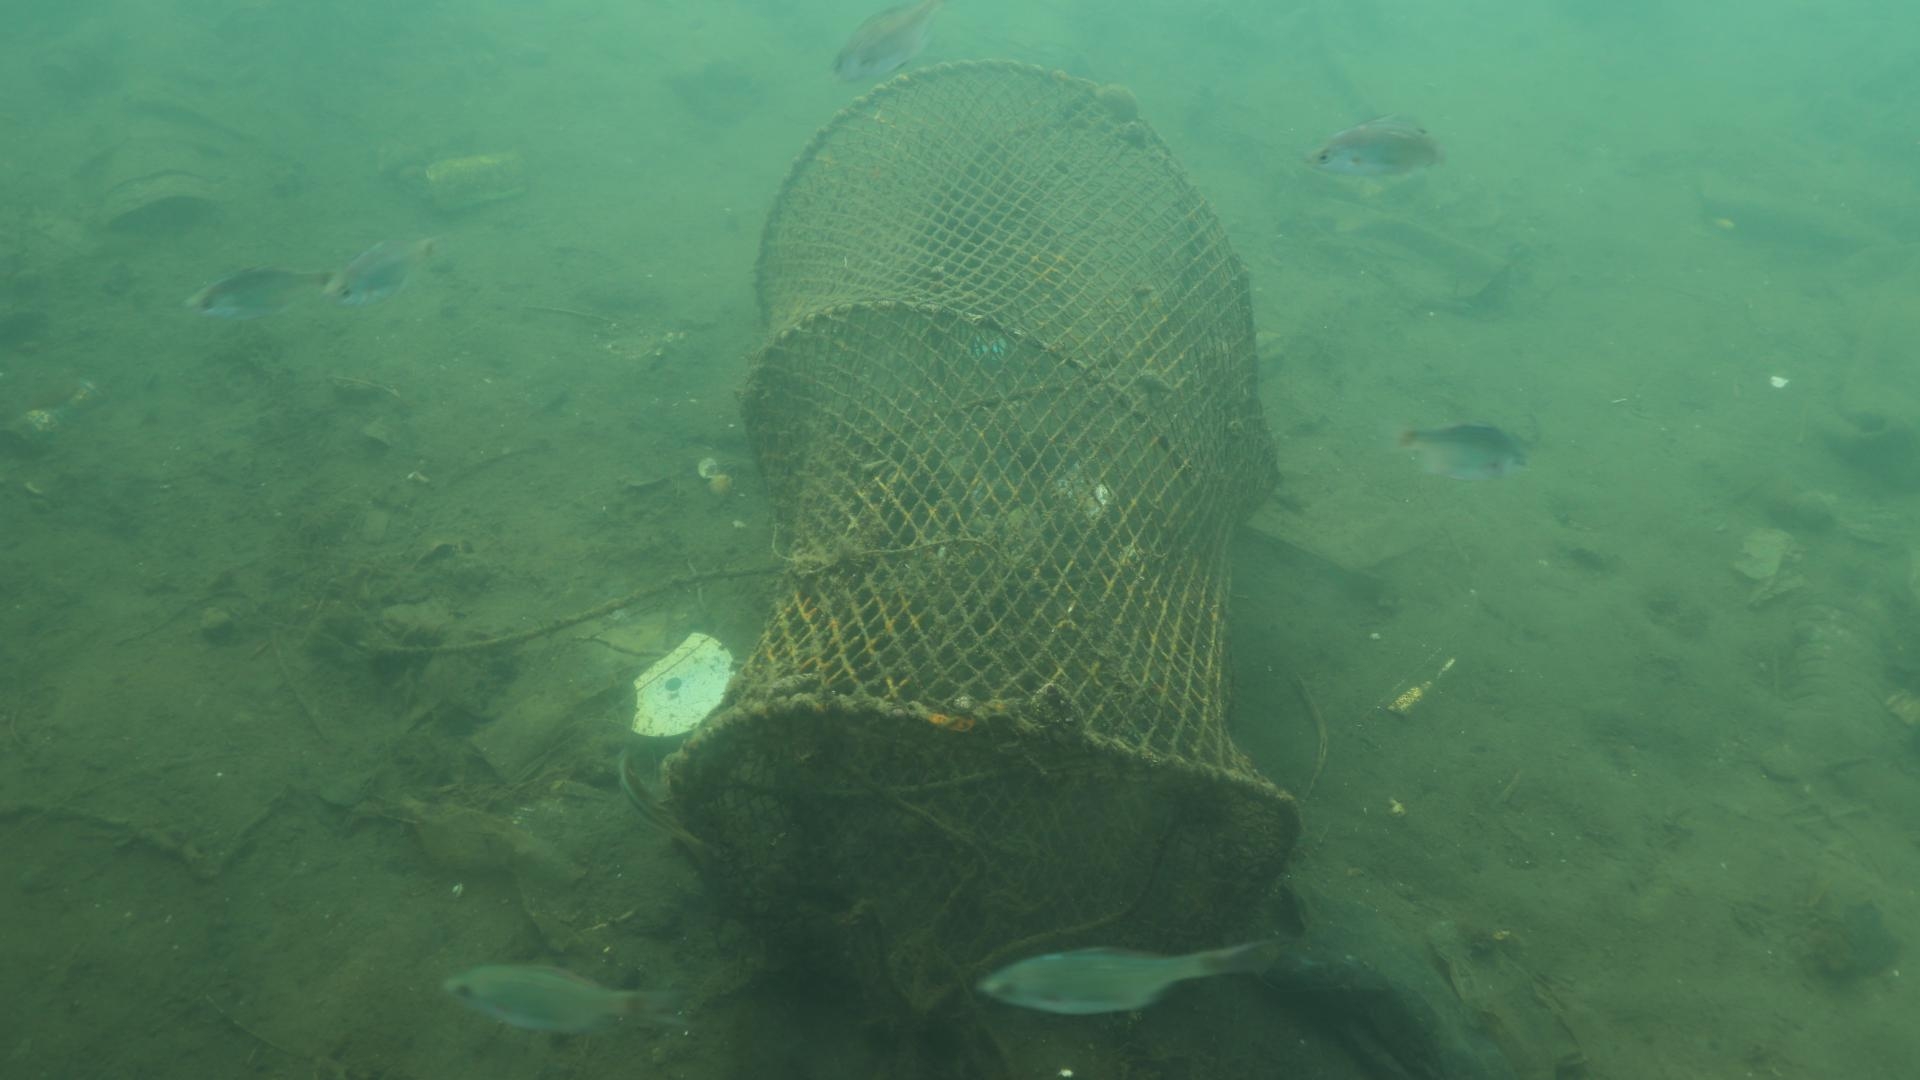rope: (351, 541, 779, 669)
spring fish trap: (655, 55, 1302, 1021)
